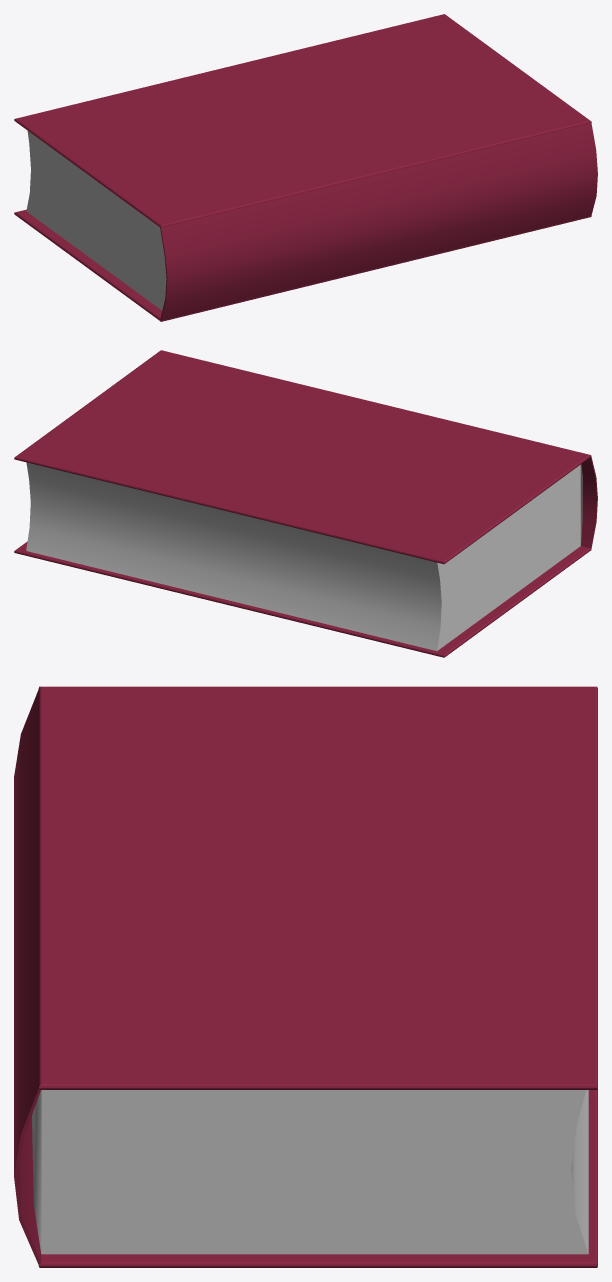
File: livreAvecReliure.obj
3 views of the same model, one above another, from view 1: azimuth 30°, elevation 25°; view 2: azimuth 150°, elevation 25°; view 3: azimuth 270°, elevation 25° (orthographic). The views are drawn at different scales.
Visible parts, largest first — view 1: face_avant, tranche, pages, face_arriere; view 2: face_avant, pages, face_arriere, tranche; view 3: face_avant, pages, tranche, face_arriere.
Boxes of the visible parts, x1,y1,x2,y2 form: face_avant: (14, 14, 591, 227); tranche: (160, 123, 597, 321); pages: (26, 131, 166, 310); face_arriere: (14, 209, 591, 321); face_avant: (14, 350, 590, 564); pages: (26, 462, 582, 650); face_arriere: (14, 541, 590, 657); tranche: (581, 457, 596, 548); face_avant: (38, 686, 597, 1089); pages: (32, 1090, 588, 1254); tranche: (14, 690, 40, 1264); face_arriere: (38, 1089, 597, 1267).
Bounding box in the file's own units: 17.61 × 3.77 × 10.86.
